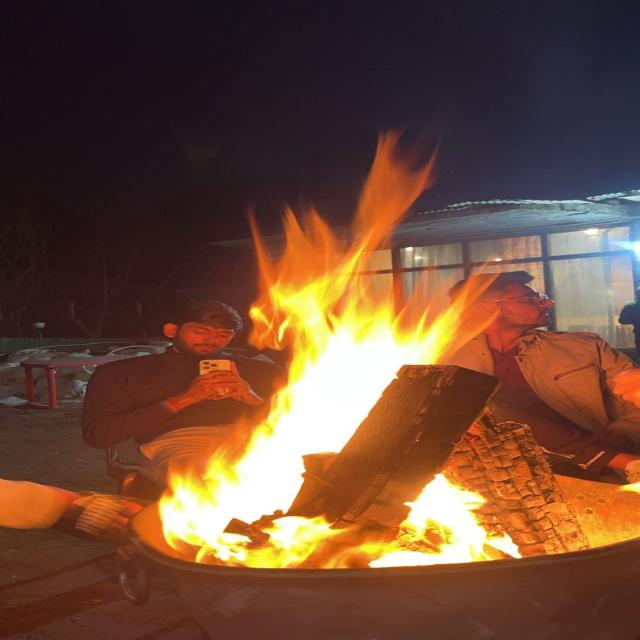fire: (158, 351, 520, 568), (357, 256, 497, 390), (249, 201, 352, 351), (352, 125, 444, 265)
